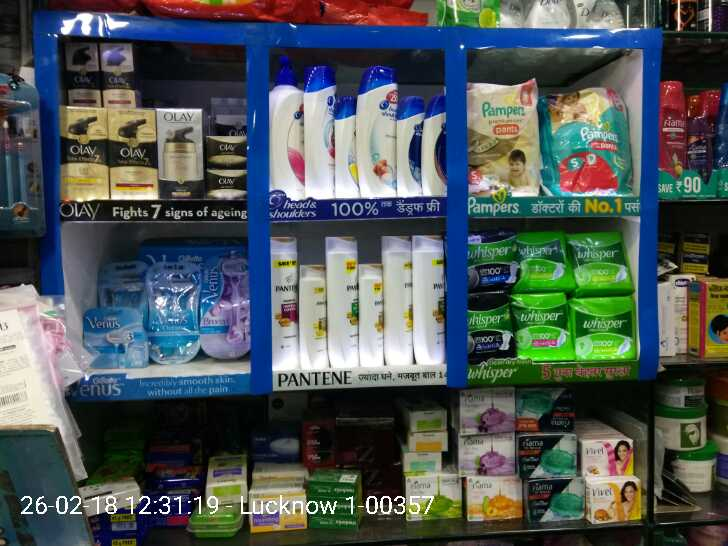venus: (201, 254, 251, 364), (150, 259, 201, 364), (84, 309, 143, 370), (99, 263, 141, 303)
